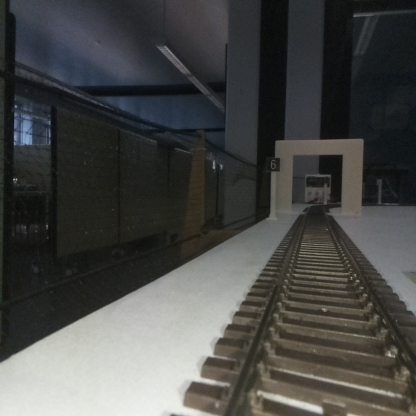black-info-6: (265, 157, 279, 219)
